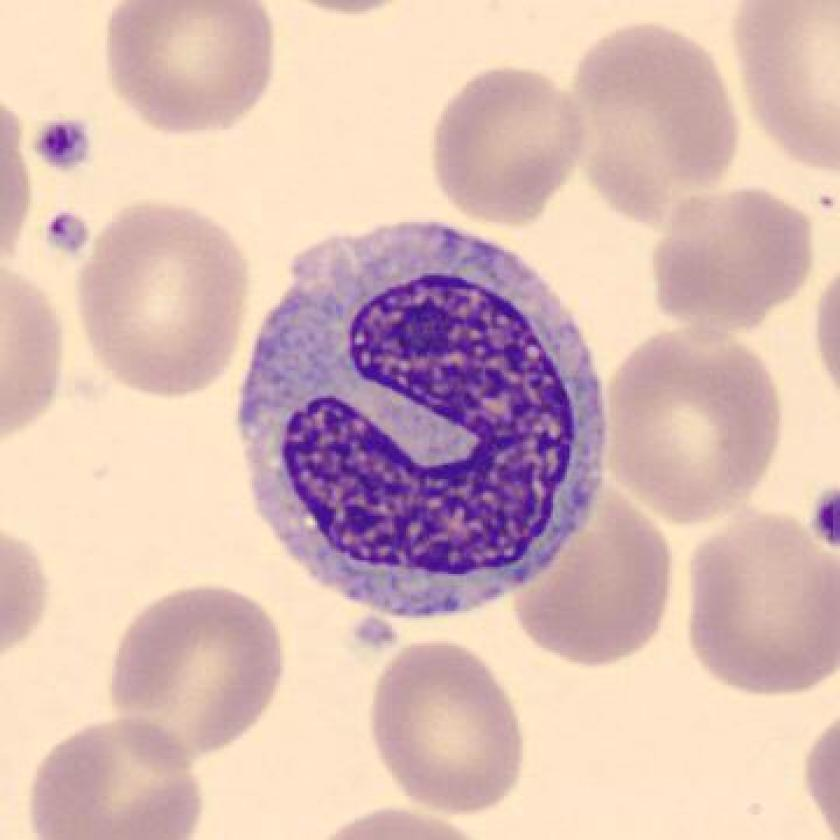monocyte: (218, 198, 619, 640)
